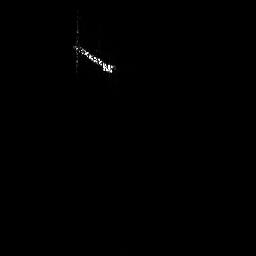ship: (71, 16, 118, 76)
